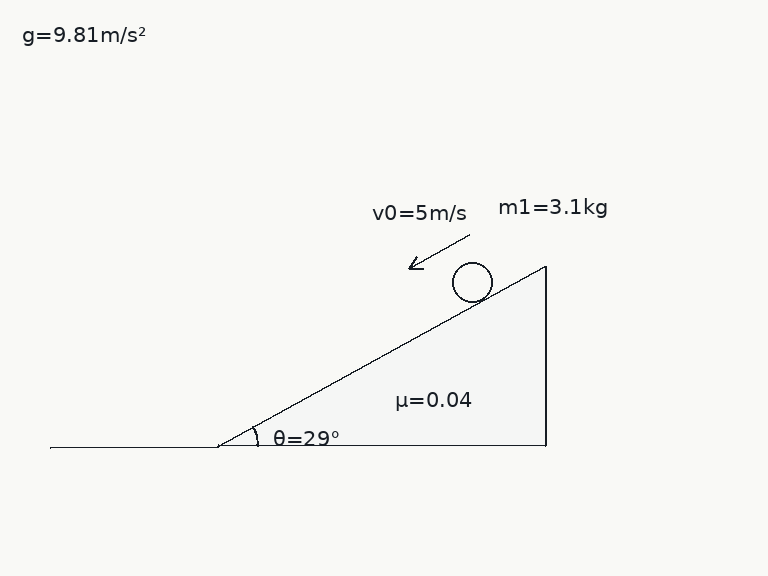ball: (450, 260, 494, 304)
ramp: (216, 263, 546, 448)
